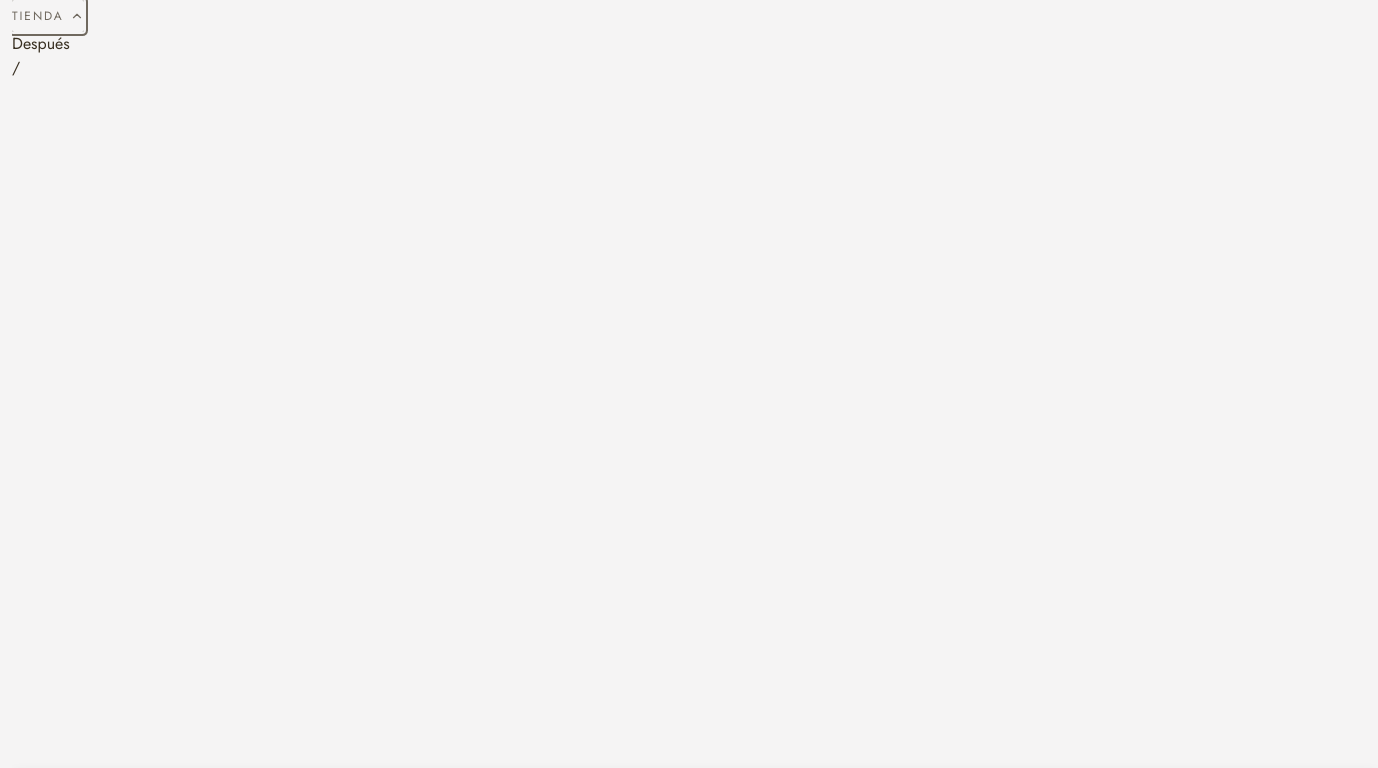
Test case: MegaMenu › elegir una categoría navega y cierra el panel
Press Enter
(page scrolled)
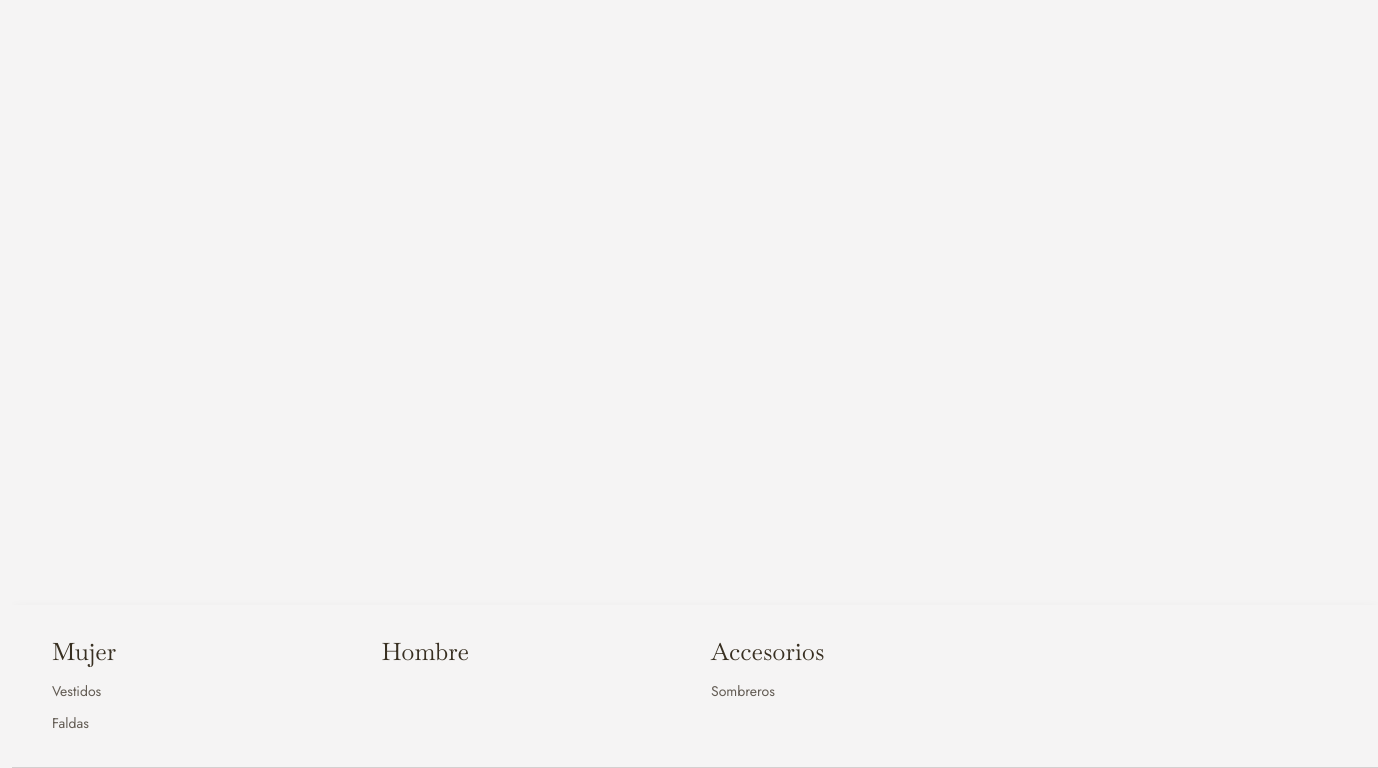
Click the link "Vestidos": (77, 691) 52,681 -> 101,701
(page scrolled)
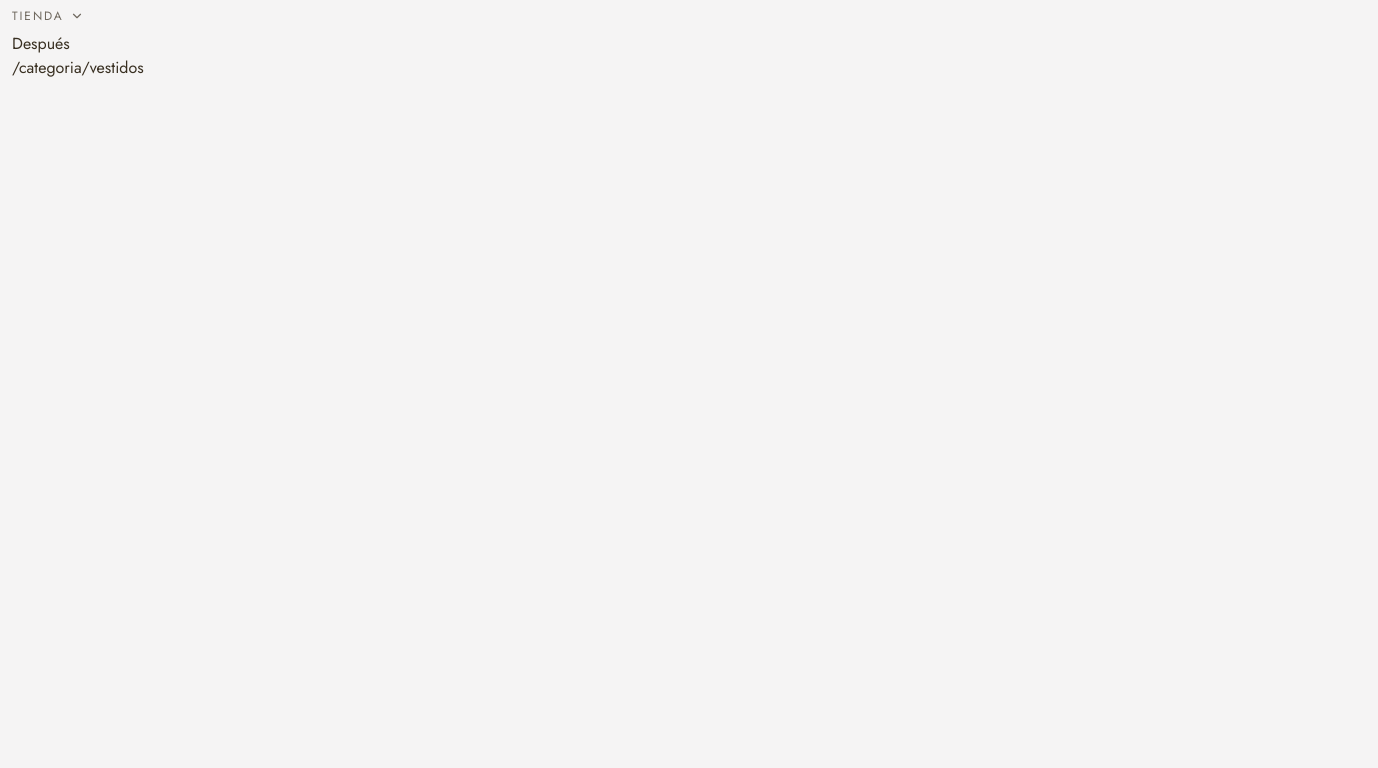
Check: the text with test id "location" reads "/categoria/vestidos", box 12,56 -> 144,79
Check: the button "Tienda" is collapsed, box 12,0 -> 84,32
